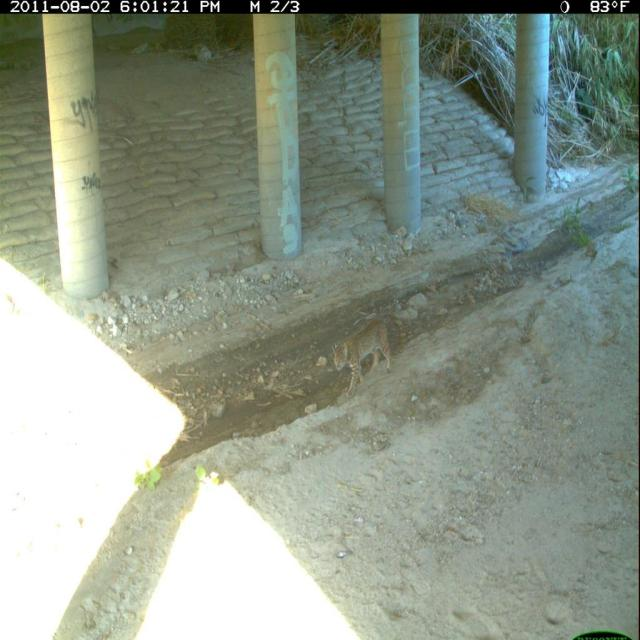bobcat: (331, 314, 398, 406)
